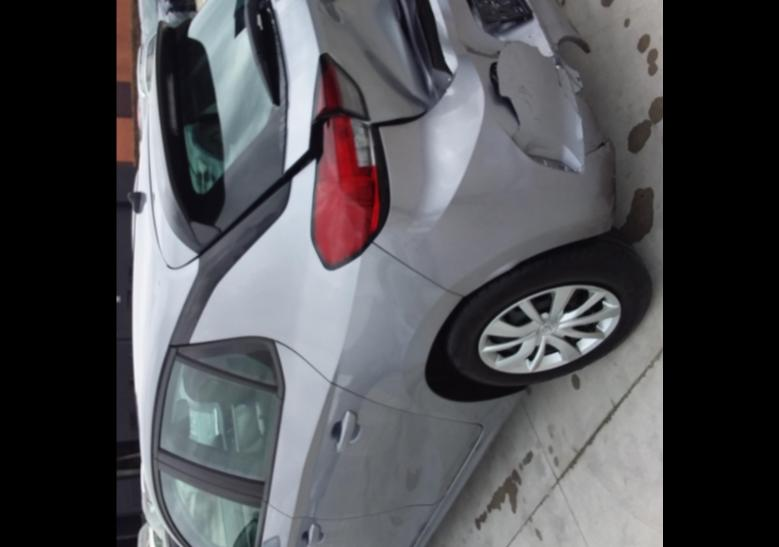Broken part: (374, 0, 616, 298), (192, 103, 369, 260), (368, 0, 443, 129)
Dent: (317, 0, 452, 111), (425, 15, 486, 129)
